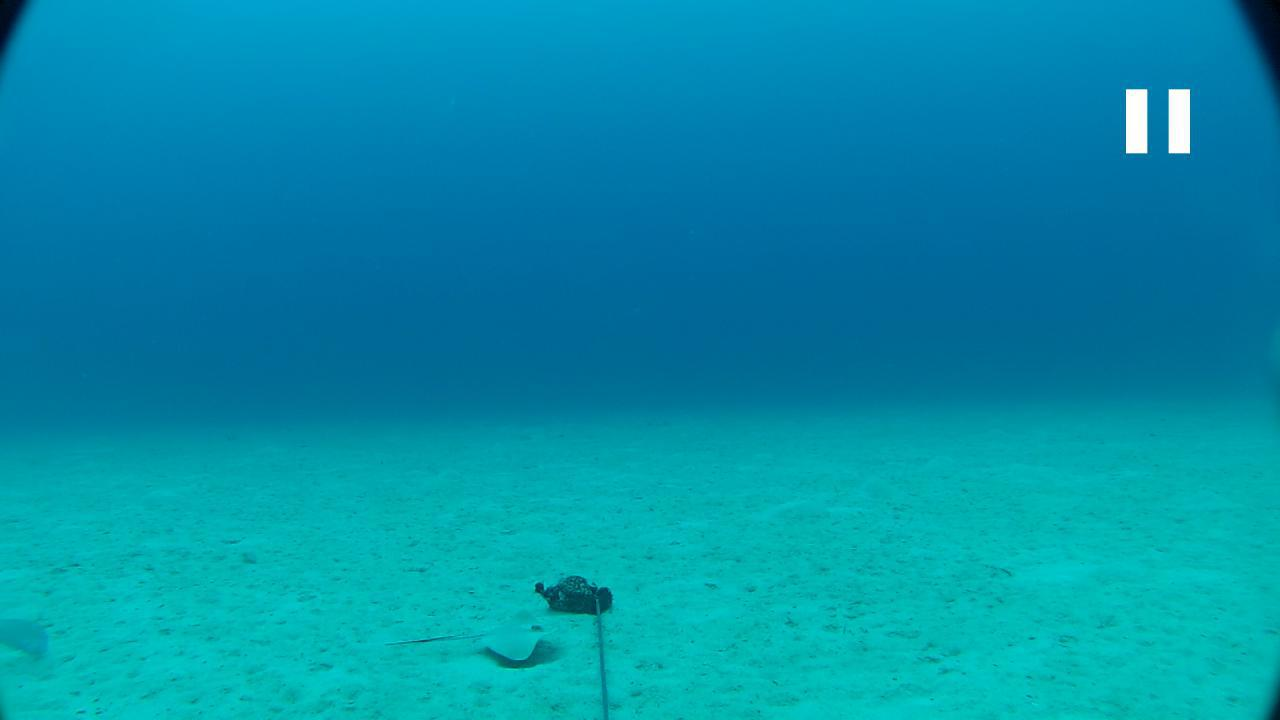dasyatis: (381, 610, 562, 662)
